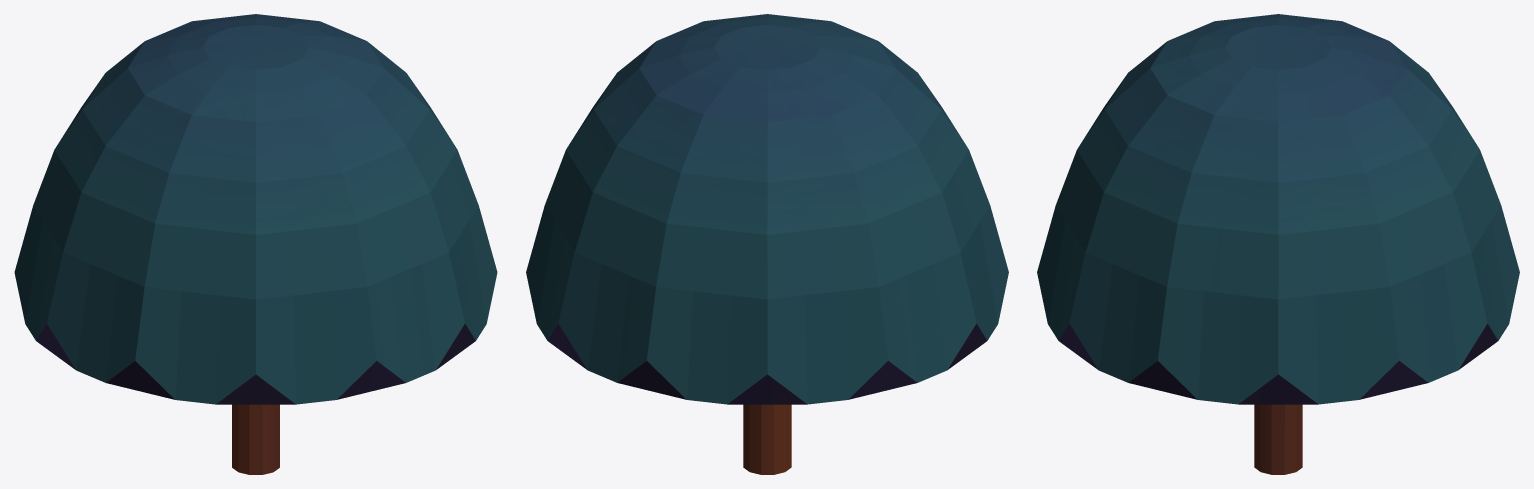
The model's file is Garden_Shrub01.fbx.
3 views of the same model, side by side, from view 1: azimuth 30°, elevation 25°; view 2: azimuth 150°, elevation 25°; view 3: azimuth 270°, elevation 25° (orthographic).
Parts seen in each view (by area): view 1: Cylinder.210; view 2: Cylinder.210; view 3: Cylinder.210.
Boxes of the visible parts, box(x1,y1,x2,y2) form: Cylinder.210: box(14, 14, 497, 474); Cylinder.210: box(526, 14, 1008, 474); Cylinder.210: box(1037, 14, 1519, 474).
Bounding box in the file's own units: 58.99 × 56.24 × 58.99.
